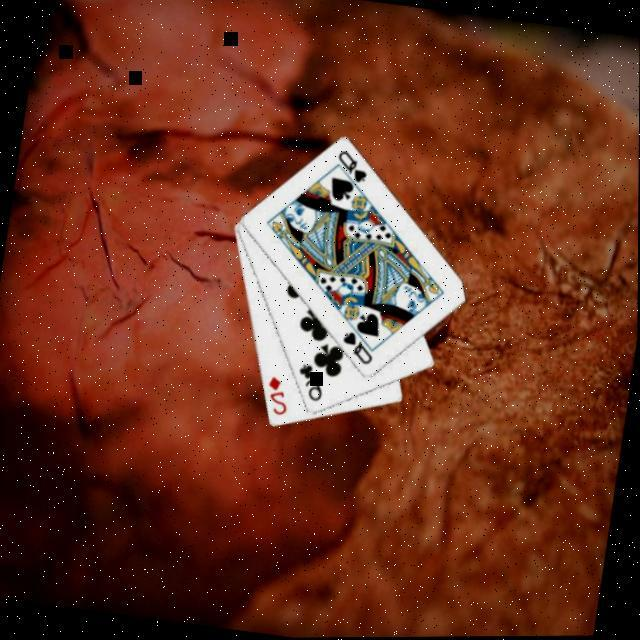2D: (263, 373, 297, 419)
9C: (294, 360, 332, 406)
QS: (334, 146, 375, 188), (339, 328, 382, 368)
